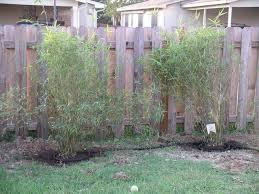bamboo: (153, 27, 245, 153), (30, 29, 109, 161), (4, 71, 148, 135)
